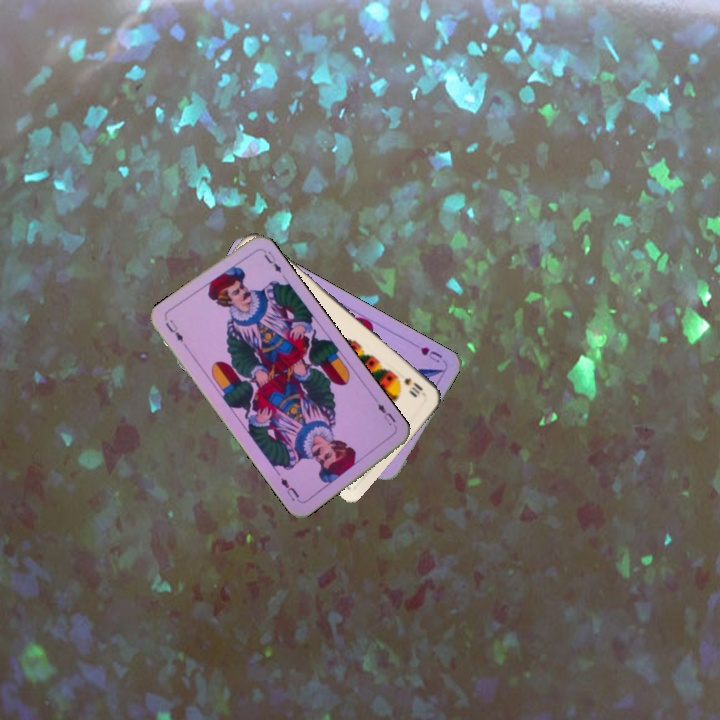EU: (373, 399, 399, 431), (161, 315, 186, 345)
HU: (416, 343, 445, 365)
S10: (400, 374, 425, 397)
